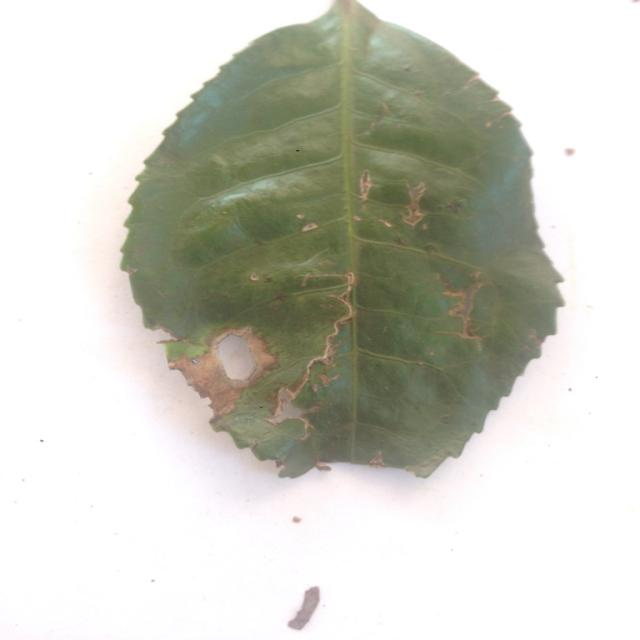Brown Blight: (93, 3, 556, 484)
